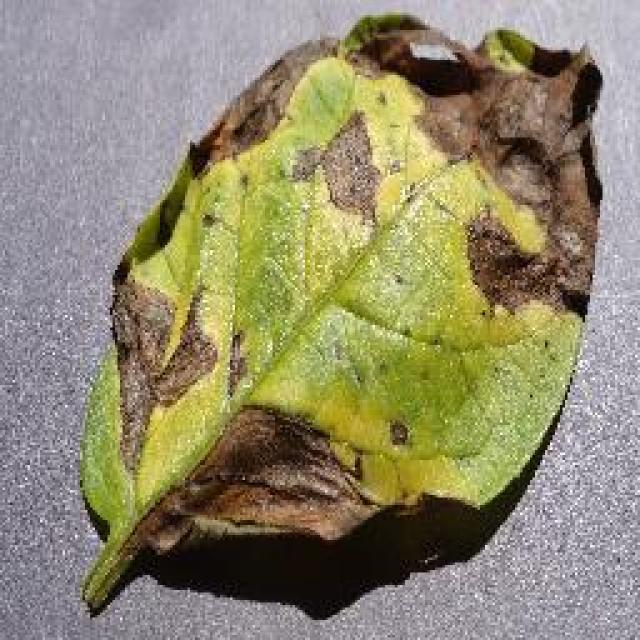early_blight: (72, 12, 608, 618)
